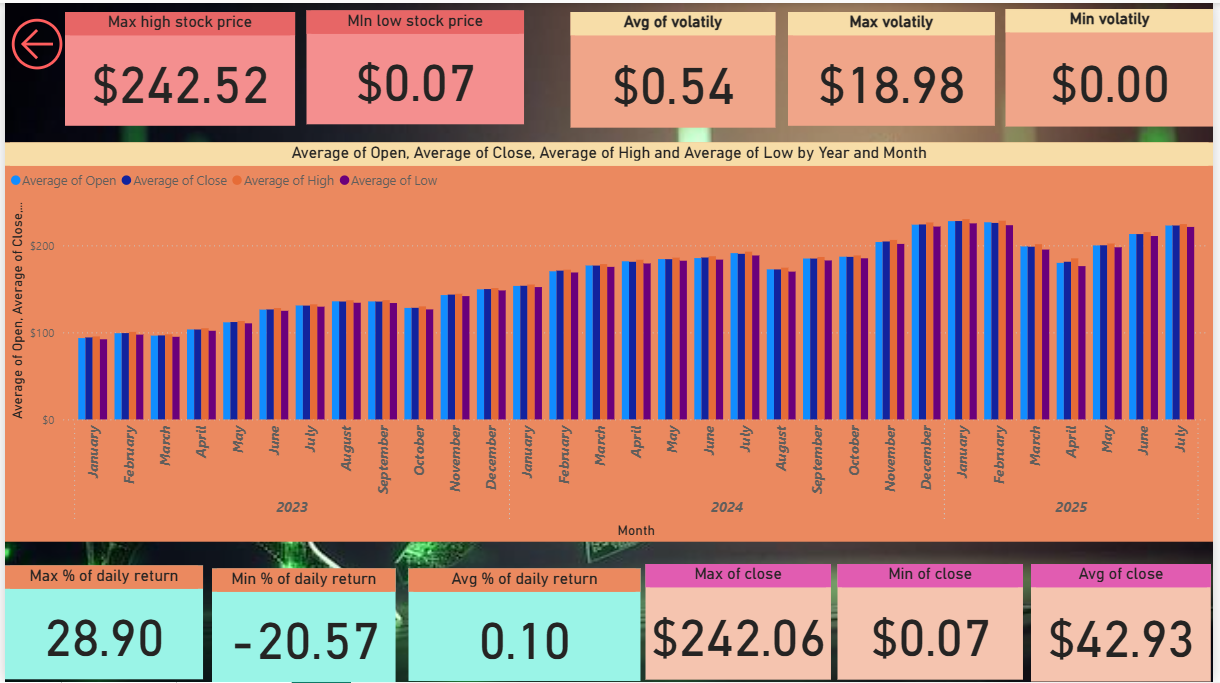

Layout of this report page (visuals, bound fields, positions):
{"tool":"powerbi","page":{"name":"Page 3","canvas":[1280,720],"ordinal":2},"visuals":[{"type":"card","title":"Max high stock price","fields":{"Values":["amazone_after_eda_data.Max_high"]},"box":[64.3,9.4,243.8,120.9],"z":0},{"type":"card","title":"MIn low stock price","fields":{"Values":["amazone_after_eda_data.min_low"]},"box":[319.4,7.6,230.6,120.9],"z":1000},{"type":"card","title":"Max of close","fields":{"Values":["Max(amazone_after_eda_data.Close)"]},"box":[678.4,595.3,196.5,122.8],"z":2000},{"type":"card","title":"Min of close","fields":{"Values":["Min(amazone_after_eda_data.Close)"]},"box":[882.5,595.3,196.5,122.8],"z":3000},{"type":"card","title":"Avg of close","fields":{"Values":["Avg(amazone_after_eda_data.Close)"]},"box":[1088.5,595.3,190.9,124.7],"z":4000},{"type":"card","title":"Max volatily","fields":{"Values":["Max(amazone_after_eda_data.volatily)"]},"box":[829.6,9.4,219.2,120.9],"z":5000},{"type":"card","title":"Min volatily","fields":{"Values":["Min(amazone_after_eda_data.volatily)"]},"box":[1060.2,5.7,221.1,124.7],"z":6000},{"type":"card","title":"Max % of daily return","fields":{"Values":["Max(amazone_after_eda_data.daily_retun_persent)"]},"box":[0,597.2,209.8,120.9],"z":7000},{"type":"card","title":"Avg % of daily return","fields":{"Values":["Avg(amazone_after_eda_data.daily_retun_persent)"]},"box":[427.1,599.1,245.7,119.1],"z":8000},{"type":"card","title":"Min % of daily return","fields":{"Values":["Min(amazone_after_eda_data.daily_retun_persent)"]},"box":[219.2,599.1,194.6,120.9],"z":9000},{"type":"lineClusteredColumnComboChart","fields":{"Y":["Avg(amazone_after_eda_data.Open)","Avg(amazone_after_eda_data.Close)","Avg(amazone_after_eda_data.High)","Avg(amazone_after_eda_data.Low)"],"Category":["amazone_after_eda_data.year-month.Variation.Date Hierarchy.Year","amazone_after_eda_data.year-month.Variation.Date Hierarchy.Month"]},"box":[0,147.4,1281.3,423.3],"z":10000},{"type":"card","title":"Avg of volatily","fields":{"Values":["Avg(amazone_after_eda_data.volatily)"]},"box":[599.1,9.4,217.3,122.8],"z":11000},{"type":"actionButton","box":[0,9.4,105.8,68],"z":12000}]}

Visuals, with their boxes in screenshot pixels (x1, y1, x2, y2), scaled from the page's 1280x720 canvas onto the 1220x683 screenshot:
"Max high stock price" card: 61/9/294/124
"MIn low stock price" card: 304/7/524/122
"Max of close" card: 647/565/834/681
"Min of close" card: 841/565/1028/681
"Avg of close" card: 1037/565/1219/682
"Max volatily" card: 791/9/1000/124
"Min volatily" card: 1011/5/1219/124
"Max % of daily return" card: 0/567/200/681
"Avg % of daily return" card: 407/568/641/681
"Min % of daily return" card: 209/568/394/682
lineClusteredColumnComboChart - Avg(amazone_after_eda_data.Open) x Avg(amazone_after_eda_data.Close): 0/140/1219/541
"Avg of volatily" card: 571/9/778/125
actionButton: 0/9/101/73
